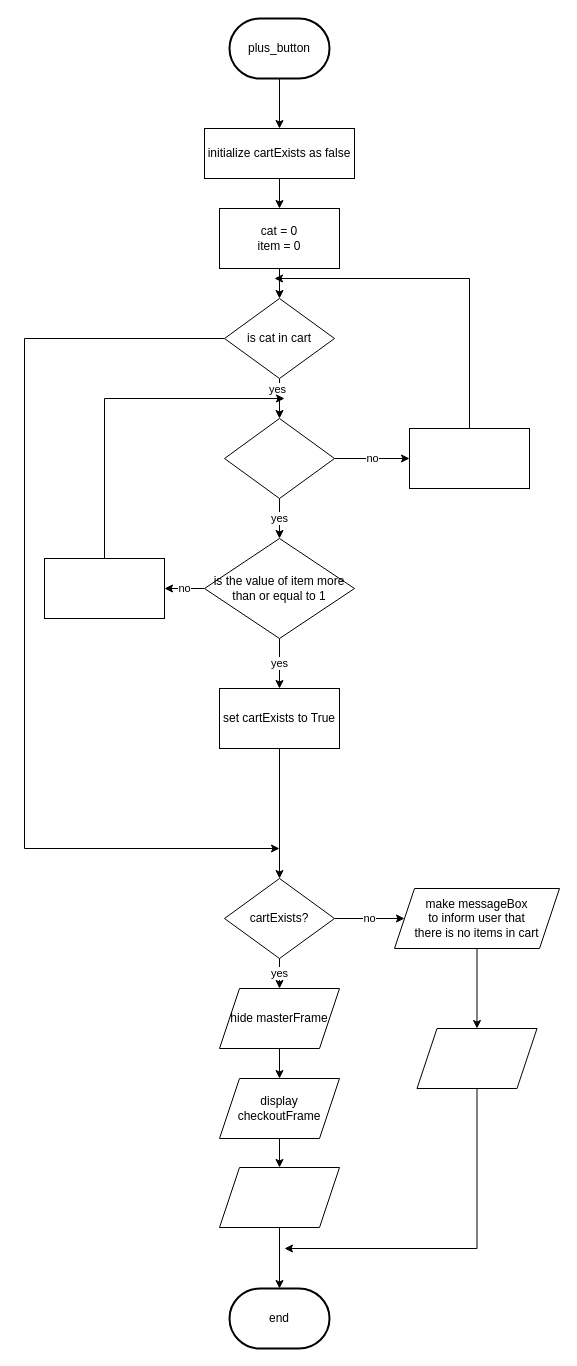
Image size: 577x1366. Some labels were removed from this diagram. Here are the shapes that lost their labels. From the top down, the box of each, then its label:
(224, 418, 334, 498): is item in cat
(408, 428, 530, 488): increment cart by 1
(44, 558, 164, 618): increment item by 1
(416, 1028, 537, 1088): tell user no items in cart
(218, 1166, 340, 1228): tell user they are checking out
